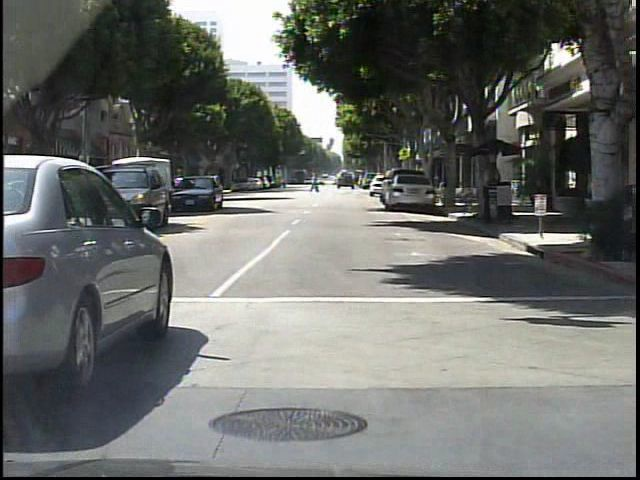person: (484, 160, 504, 223), (597, 165, 614, 237), (311, 175, 321, 194)
